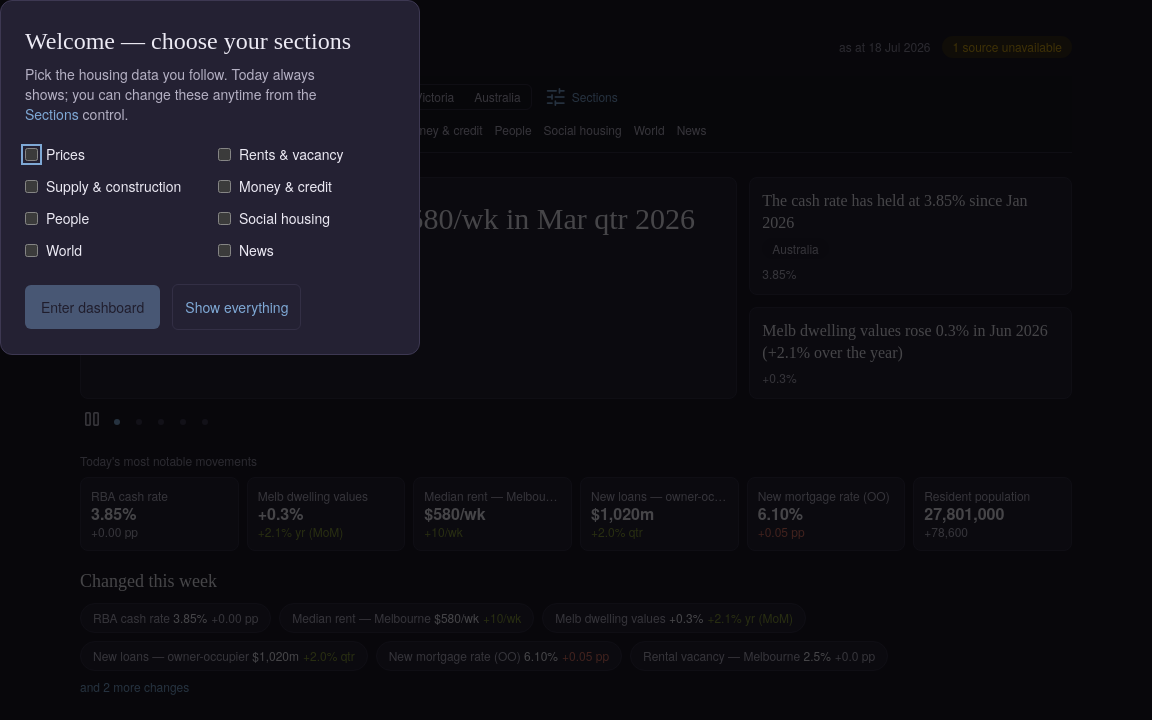
Test case: first-run welcome modal › Show everything opens all themed sections, persists, and closes
Expected: the heading "Victorian Housing" is shown, x1=80 y1=24 x2=301 y2=60
Click the button "Show everything": [237, 307] box x1=172 y1=284 x2=301 y2=330
(page scrolled)
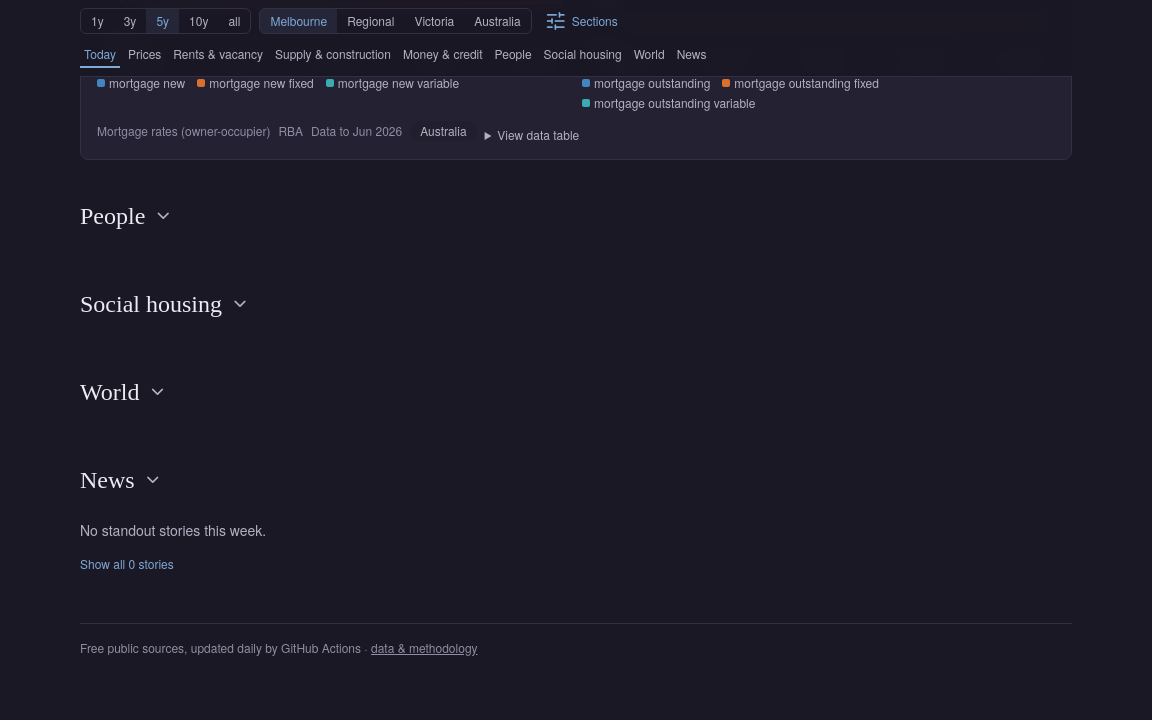
Expected: the 2nd button "World" is expanded, x1=80 y1=376 x2=169 y2=408
Expected: the 2nd button "News" is expanded, x1=80 y1=464 x2=165 y2=496
Expected: the heading "choose your sections" is gone
